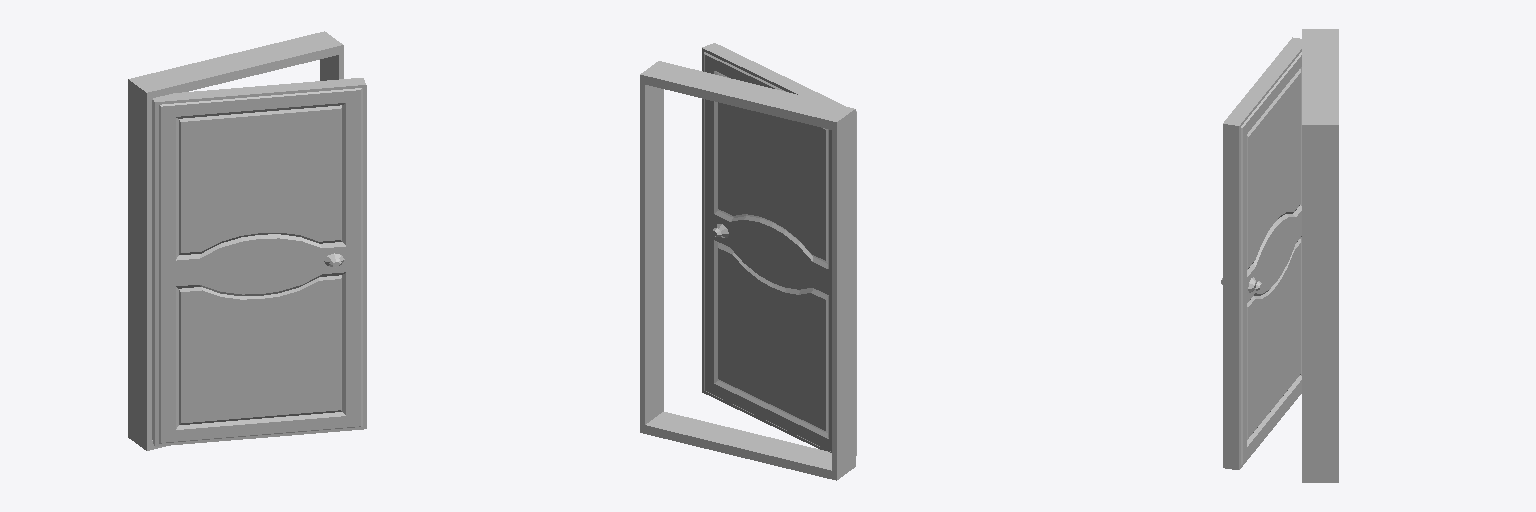
The model's file is drzwiok_000029.obj.
3 views of the same model, side by side, from view 1: azimuth 30°, elevation 25°; view 2: azimuth 150°, elevation 25°; view 3: azimuth 270°, elevation 25° (orthographic).
Visible parts, largest first — view 1: Door_4.001_Cube.001, Kostka; view 2: Door_4.001_Cube.001, Kostka; view 3: Door_4.001_Cube.001, Kostka.
Part boxes in pixels (left/top/right/bottom): Door_4.001_Cube.001: left=152, top=78, right=366, bottom=446; Kostka: left=128, top=31, right=343, bottom=450; Door_4.001_Cube.001: left=702, top=43, right=856, bottom=455; Kostka: left=640, top=61, right=855, bottom=480; Door_4.001_Cube.001: left=1221, top=37, right=1301, bottom=469; Kostka: left=1302, top=29, right=1338, bottom=482.
Bounding box in the file's own units: 0.7416 × 1.29 × 0.3859.